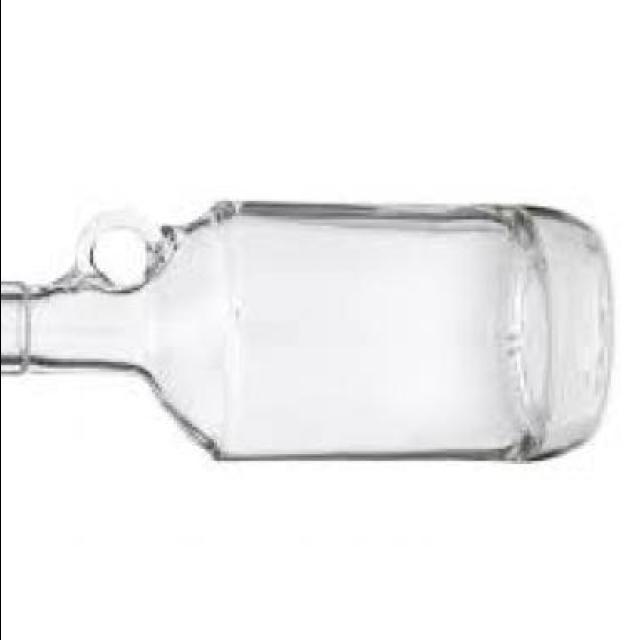kaca: (0, 201, 603, 464)
